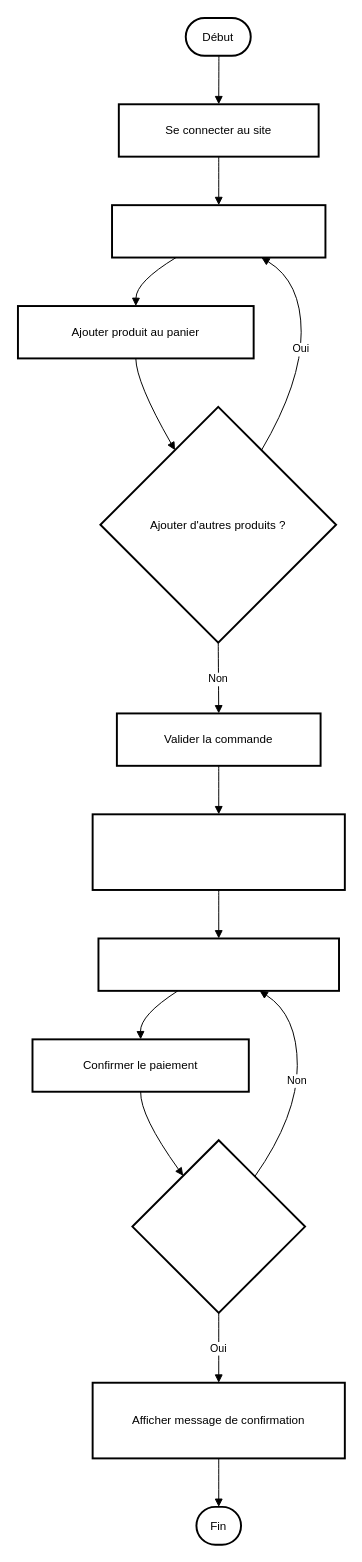
Some shapes in this 362 by 1562 pixel diagram are drawn without their labels. The shapes that lost their labels are listed below. From the top down, each one's centre as x and y in pixels, then its label:
[218,231]: Rechercher un produit
[218,851]: Saisir informations de livraison
[218,964]: Choisir mode de paiement
[218,1226]: Paiement réussi ?
